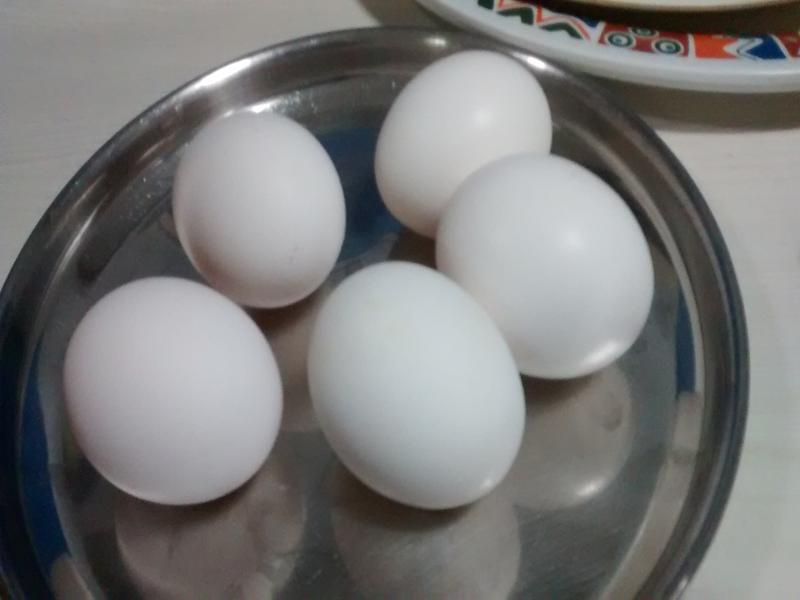egg: (305, 263, 526, 508)
